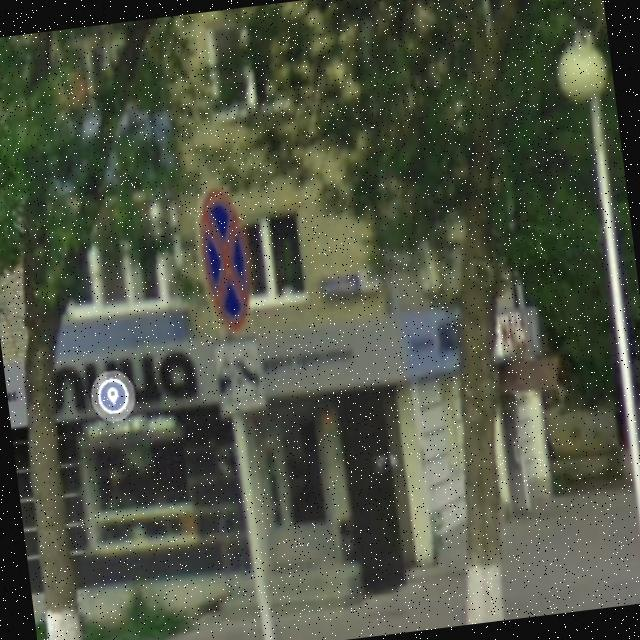Zakaz zatrzymywania sie: (188, 185, 258, 337)
